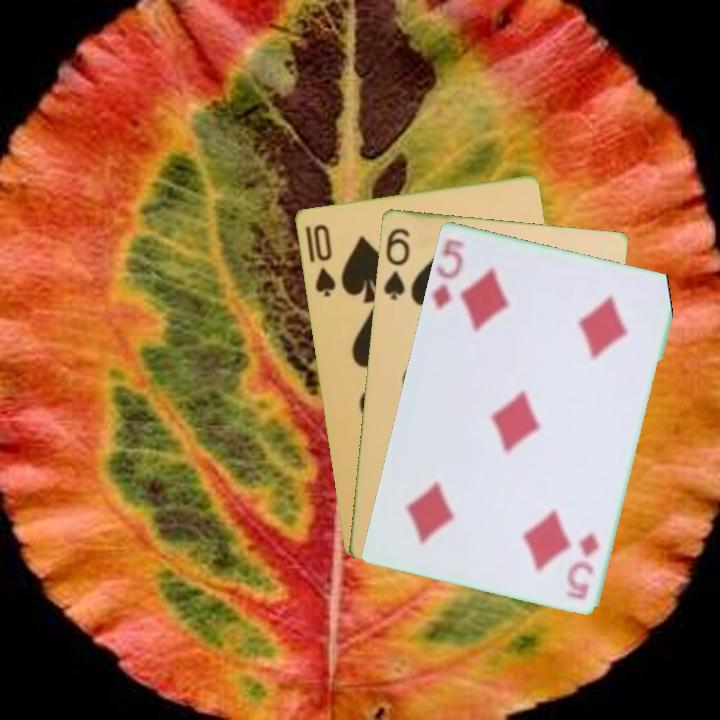10s: (301, 220, 338, 300)
5d: (427, 235, 465, 314), (566, 528, 602, 602)
6s: (379, 224, 412, 303)
